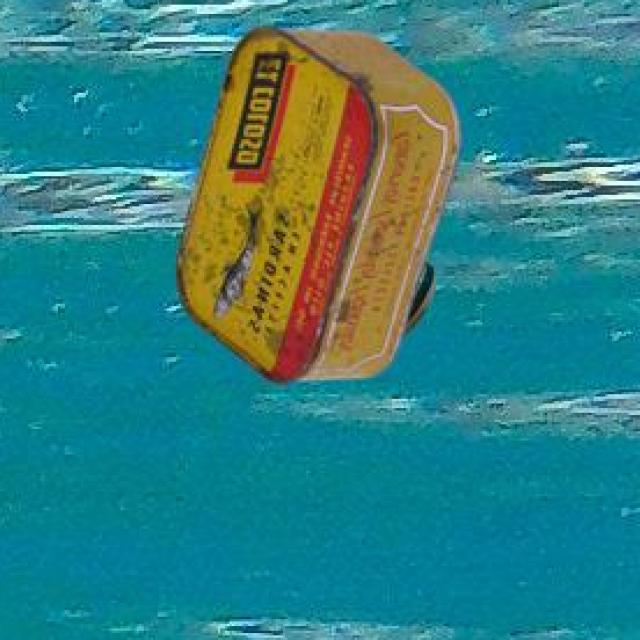logam: (180, 22, 465, 381), (408, 259, 439, 330)
